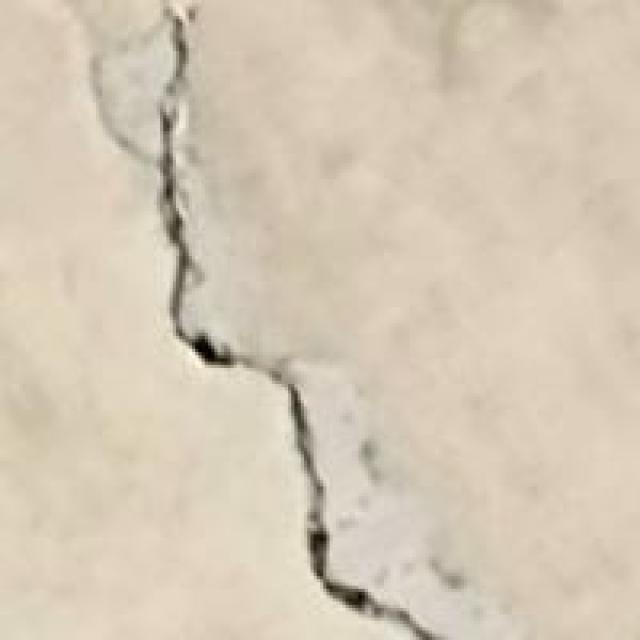Crack: (119, 9, 452, 636)
